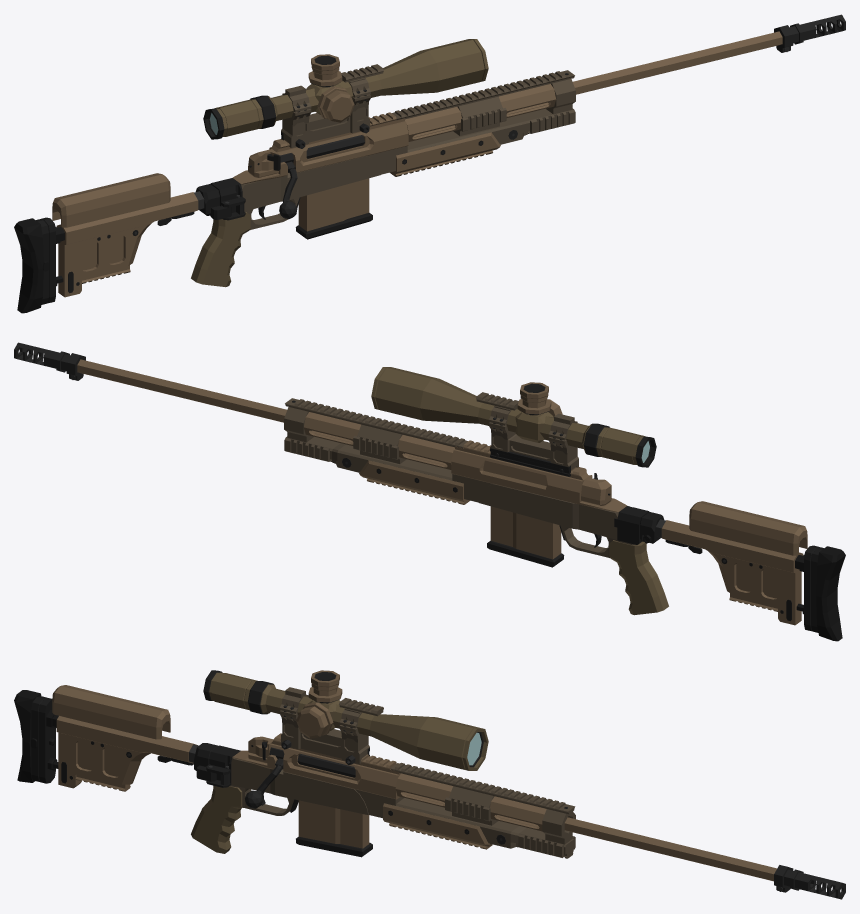
3 views of the same model, one above another, from view 1: azimuth 30°, elevation 25°; view 2: azimuth 150°, elevation 25°; view 3: azimuth 330°, elevation 25° (orthographic).
Parts seen in each view (by area): view 1: body_mesh, mag_mesh, boltrotate_mesh, boltmove_mesh; view 2: body_mesh, mag_mesh, boltmove_mesh; view 3: body_mesh, mag_mesh, boltrotate_mesh, boltmove_mesh.
Part boxes in pixels (box(x1,y1,x2,y2)): body_mesh: box(14, 14, 845, 313); mag_mesh: box(295, 178, 372, 239); boltrotate_mesh: box(279, 135, 364, 218); boltmove_mesh: box(248, 149, 280, 177); body_mesh: box(14, 342, 845, 641); mag_mesh: box(487, 506, 564, 567); boltmove_mesh: box(581, 473, 611, 505); body_mesh: box(14, 670, 845, 899); mag_mesh: box(296, 800, 372, 857); boltrotate_mesh: box(245, 747, 355, 808); boltmove_mesh: box(248, 736, 273, 763).
Size of the model in its own units: 1.25 by 0.2901 by 0.0879.
